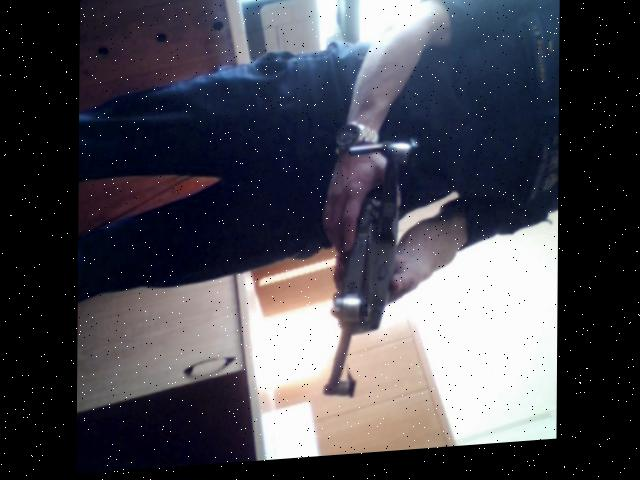drone: (309, 110, 424, 421)
